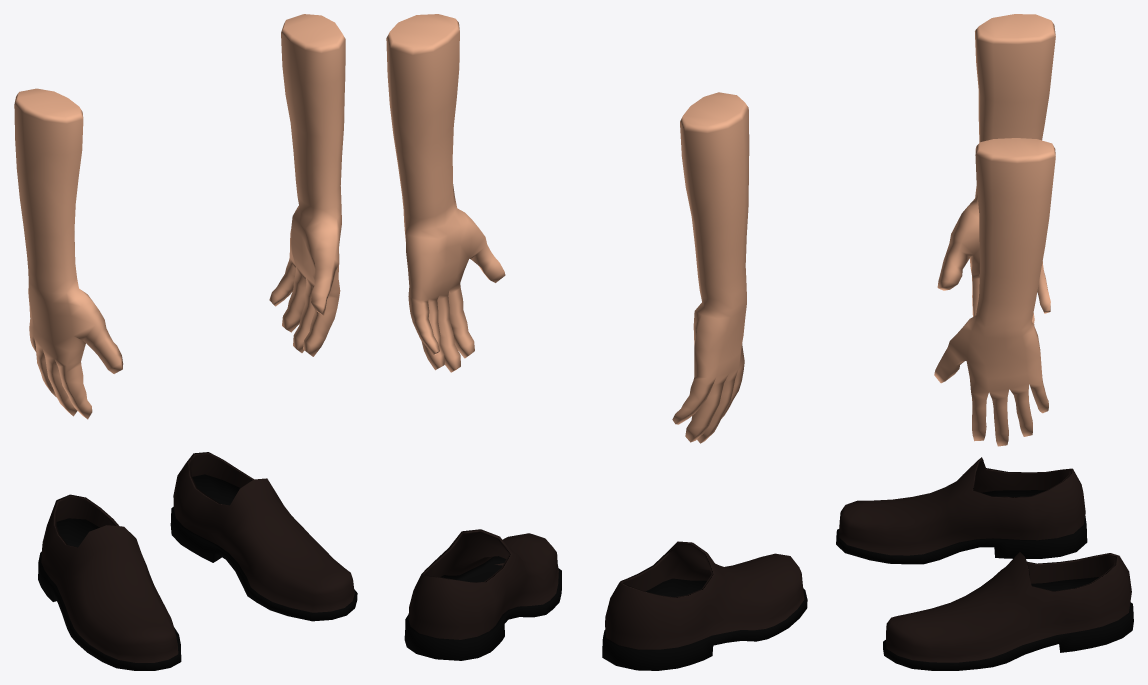
The model's file is idle.obj.
3 views of the same model, side by side, from view 1: azimuth 30°, elevation 25°; view 2: azimuth 150°, elevation 25°; view 3: azimuth 270°, elevation 25° (orthographic). The views are drawn at different scales.
Visible parts, largest first — view 1: hand_basemesh4, AnatomyHandHumanMale:hand_basemesh, MensBusinessShoes:shoeR1 polySurface2, polySurface1 MensBusinessShoes:shoeR1; view 2: AnatomyHandHumanMale:hand_basemesh, hand_basemesh4, polySurface1 MensBusinessShoes:shoeR1, MensBusinessShoes:shoeR1 polySurface2; view 3: AnatomyHandHumanMale:hand_basemesh, MensBusinessShoes:shoeR1 polySurface2, polySurface1 MensBusinessShoes:shoeR1, hand_basemesh4.
Boxes of the visible parts, <box> form: hand_basemesh4: <box>14,88,123,419</box>; AnatomyHandHumanMale:hand_basemesh: <box>269,14,345,356</box>; MensBusinessShoes:shoeR1 polySurface2: <box>170,452,357,621</box>; polySurface1 MensBusinessShoes:shoeR1: <box>38,494,181,670</box>; AnatomyHandHumanMale:hand_basemesh: <box>386,14,505,372</box>; hand_basemesh4: <box>672,92,749,443</box>; polySurface1 MensBusinessShoes:shoeR1: <box>602,541,807,670</box>; MensBusinessShoes:shoeR1 polySurface2: <box>404,529,561,660</box>; AnatomyHandHumanMale:hand_basemesh: <box>934,138,1055,446</box>; MensBusinessShoes:shoeR1 polySurface2: <box>883,552,1133,670</box>; polySurface1 MensBusinessShoes:shoeR1: <box>836,457,1087,564</box>; hand_basemesh4: <box>937,14,1055,325</box>.
Size of the model in its own units: 44.96 by 72.49 by 37.01.
